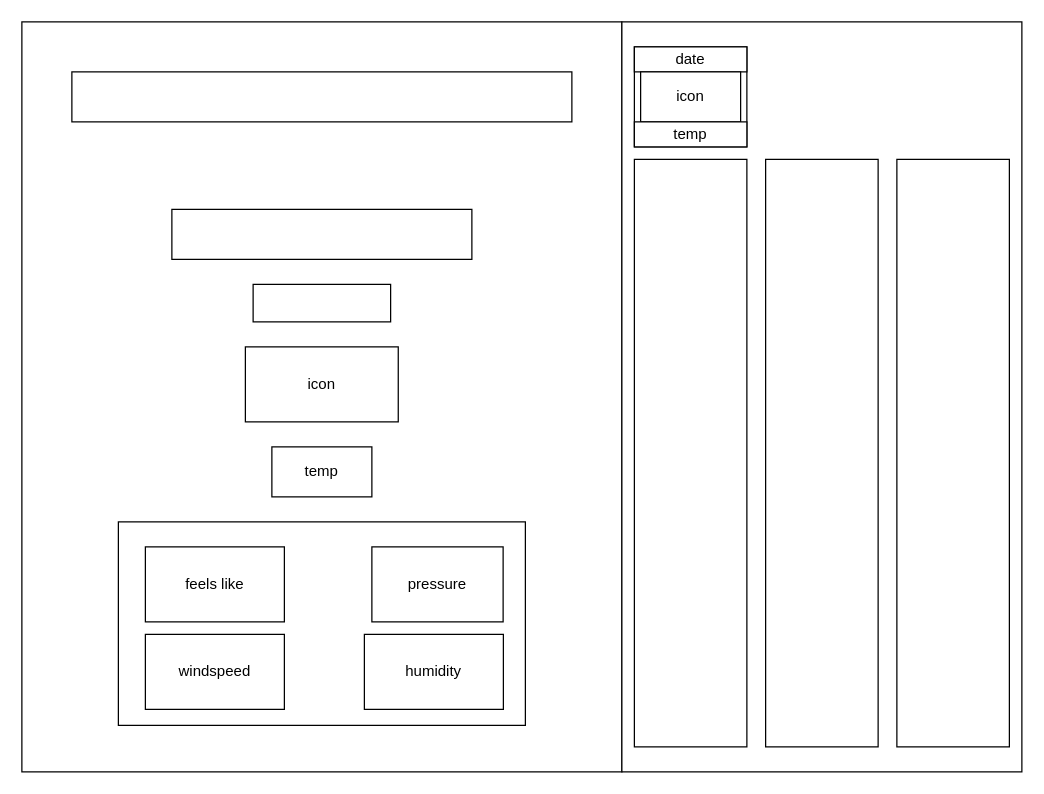
Some shapes in this 1044 by 794 pixel diagram are drawn without their labels. The centre of each missing label's shape, as x and y in pixels:
"city" goes at point (321, 233).
"time" goes at point (321, 302).
